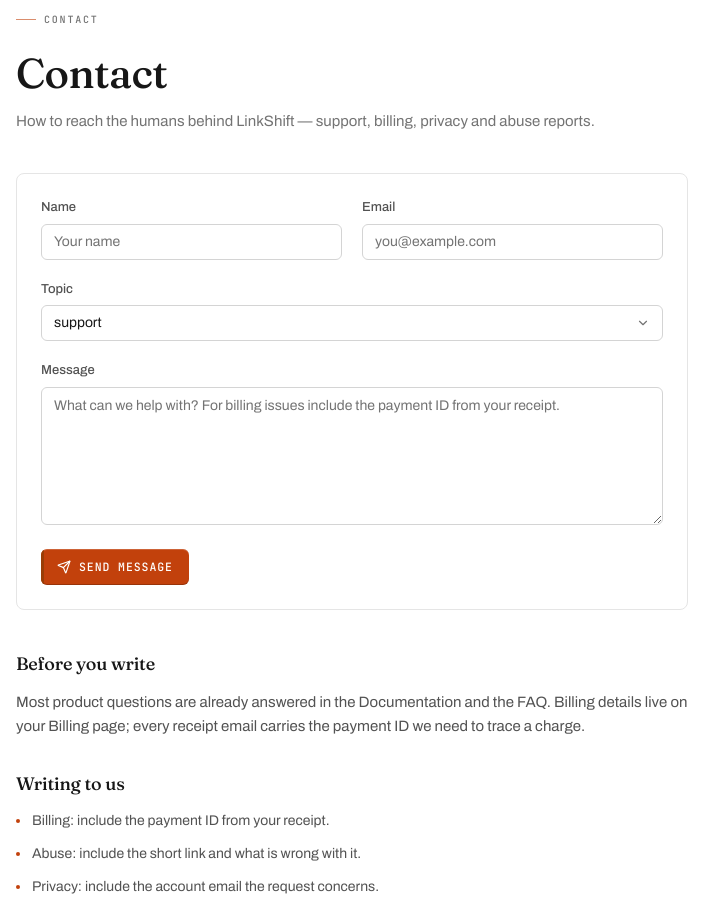
it: Contact page › surfaces a provider failure as an alert without losing the form
Type "Ada" into the field labelled "Name" at coordinates (192, 242), box [41,224,342,260]
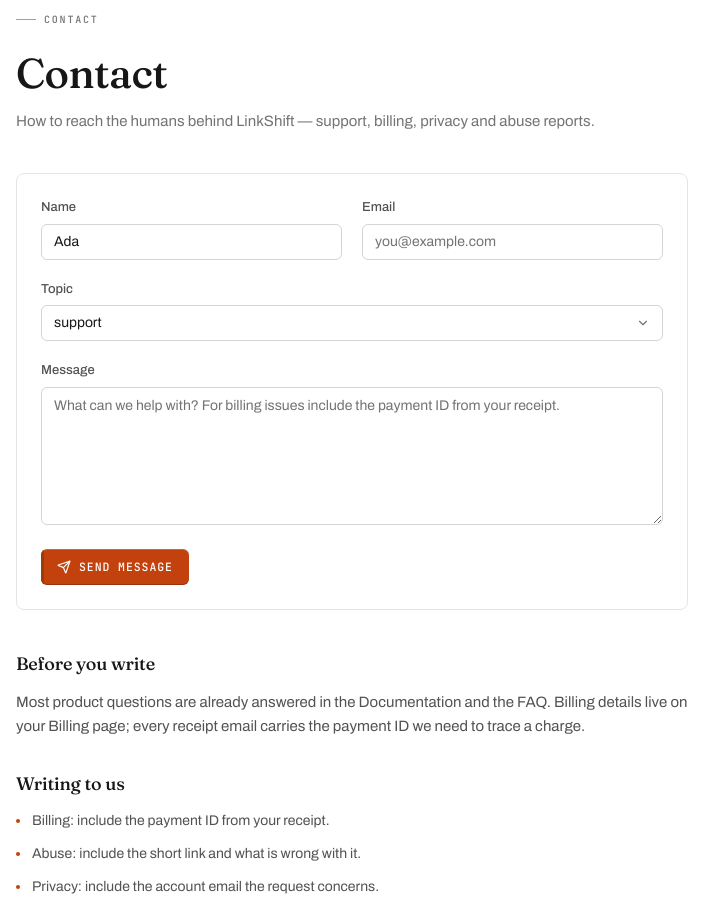
Type "ada@example.com" into the field labelled "Email" at coordinates (512, 242), box [362,224,663,260]
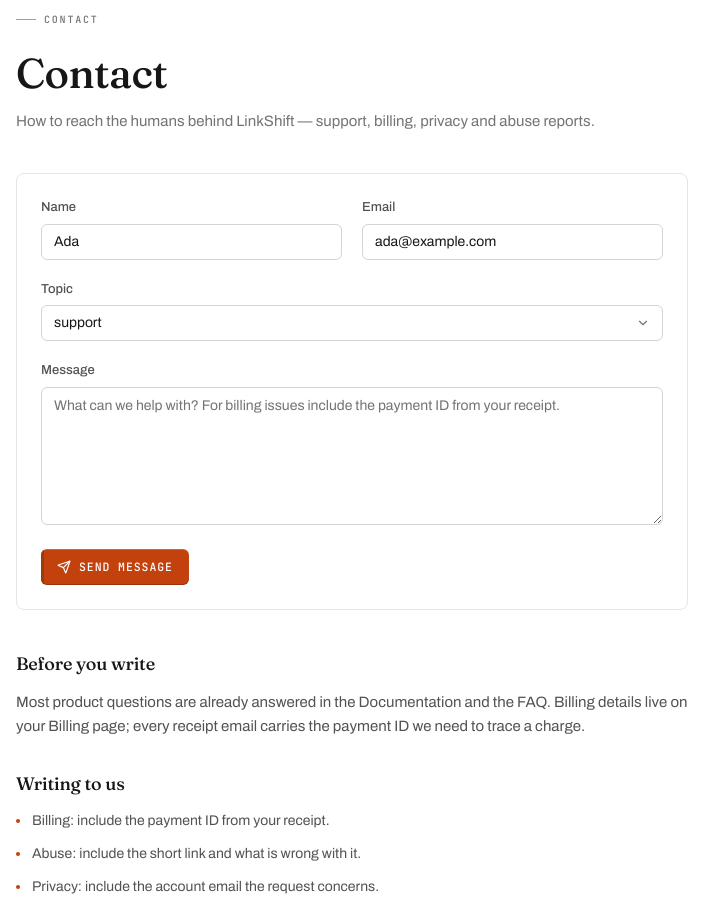
Replace the text in the text box labelled "Message" with "Billing question about my last receipt." at coordinates (352, 456), box [41,387,663,525]
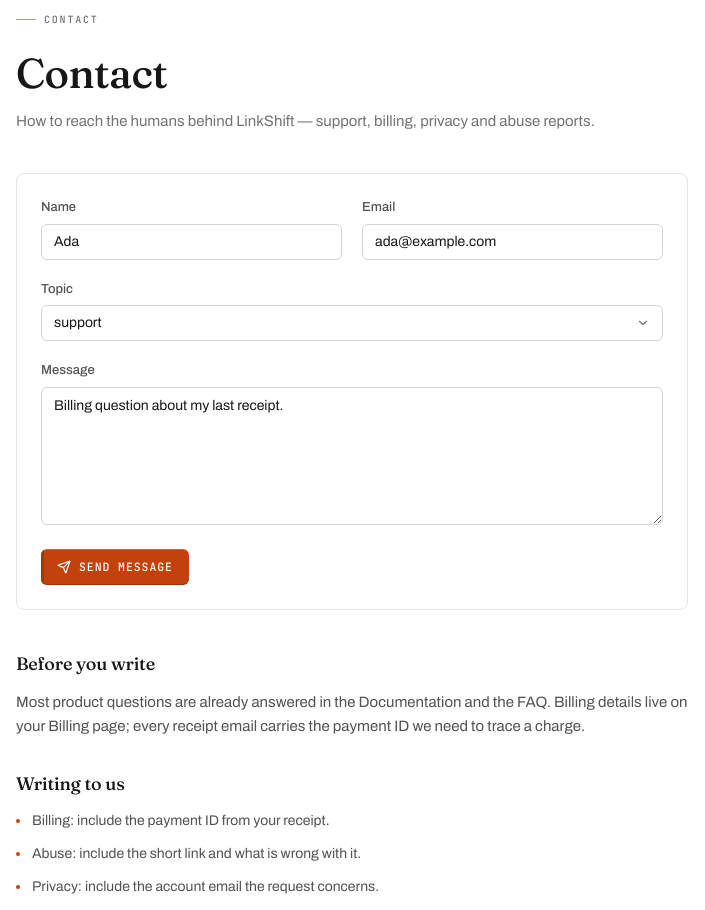
Click the button "Send message" at coordinates (115, 567), box [41,549,189,585]
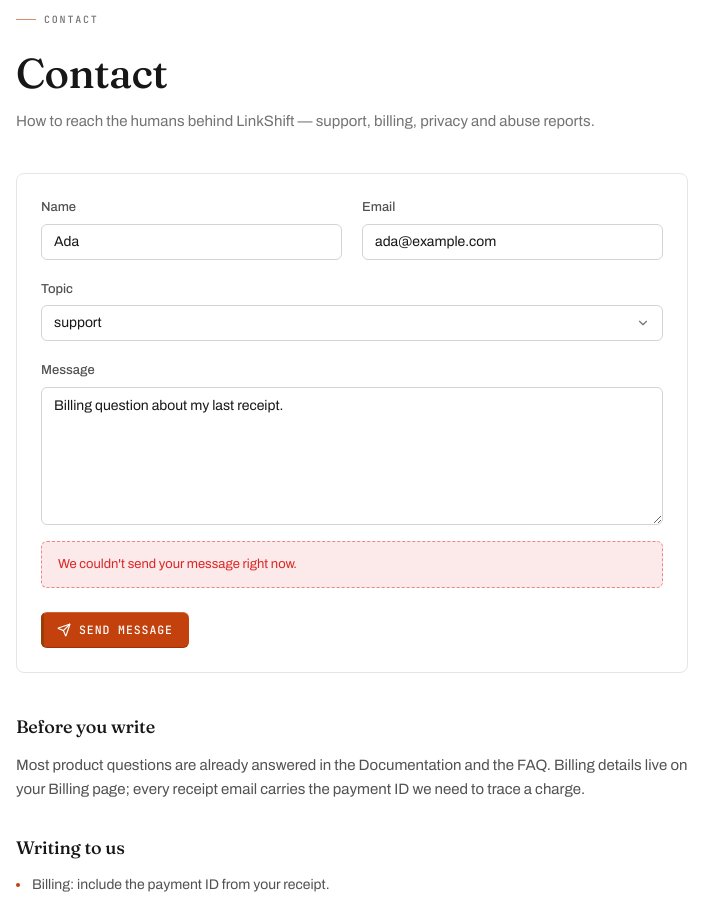
Expected: the message shows "couldn't send", [58,557,297,571]
